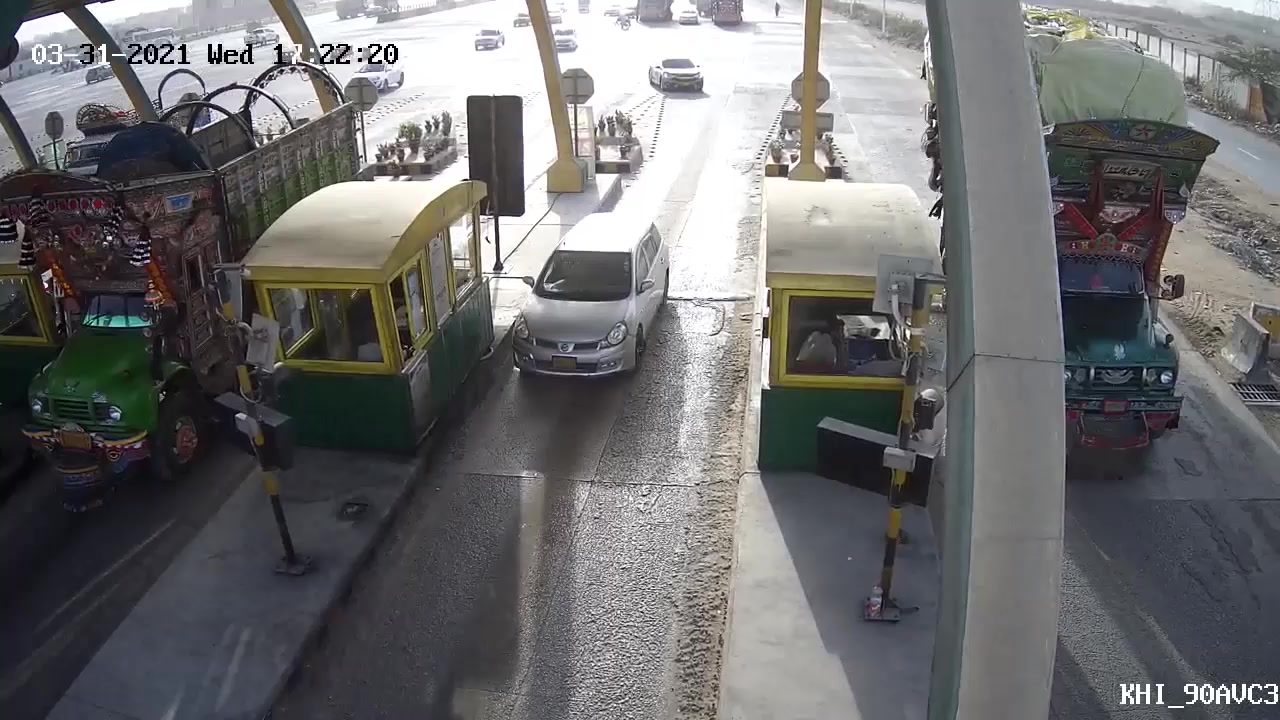F1: (500, 205, 677, 392)
